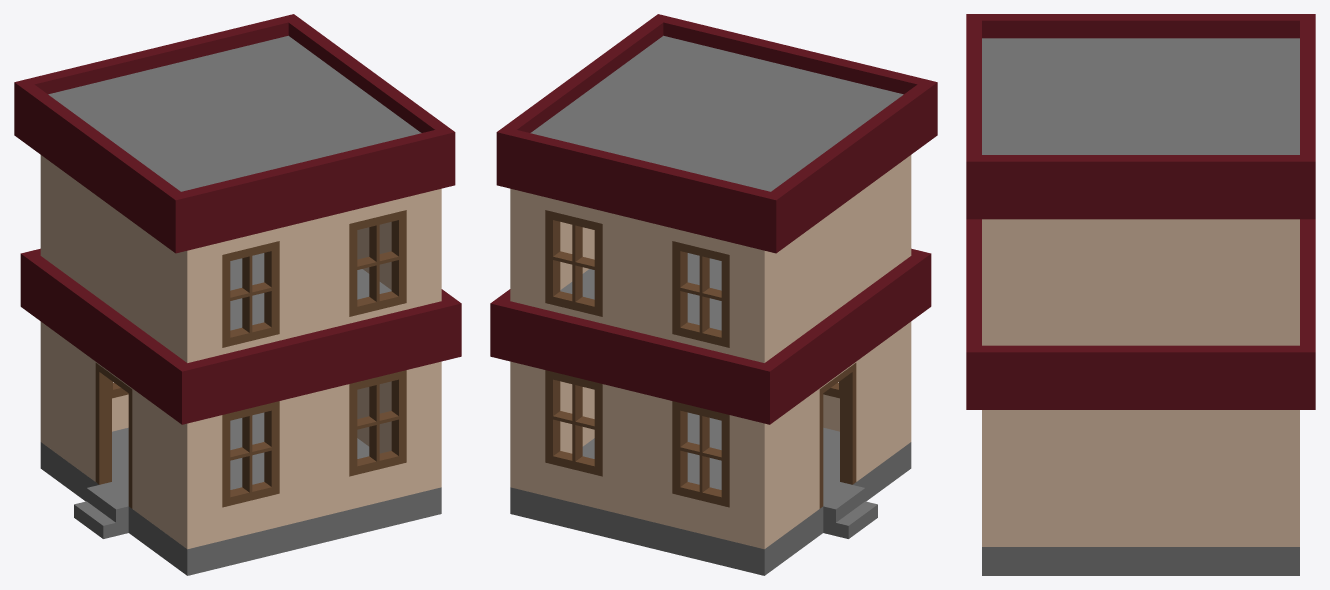
Rendered from 2floor_build.fbx.
3 views of the same model, side by side, from view 1: azimuth 30°, elevation 25°; view 2: azimuth 150°, elevation 25°; view 3: azimuth 270°, elevation 25° (orthographic). The views are drawn at different scales.
Parts seen in each view (by area): view 1: Floor; view 2: Floor; view 3: Floor.
Part boxes in pixels (left/top/right/bottom): Floor: left=14, top=14, right=461, bottom=575; Floor: left=490, top=14, right=937, bottom=575; Floor: left=966, top=14, right=1315, bottom=575.
Bounding box in the file's own units: 460 × 580 × 440.
